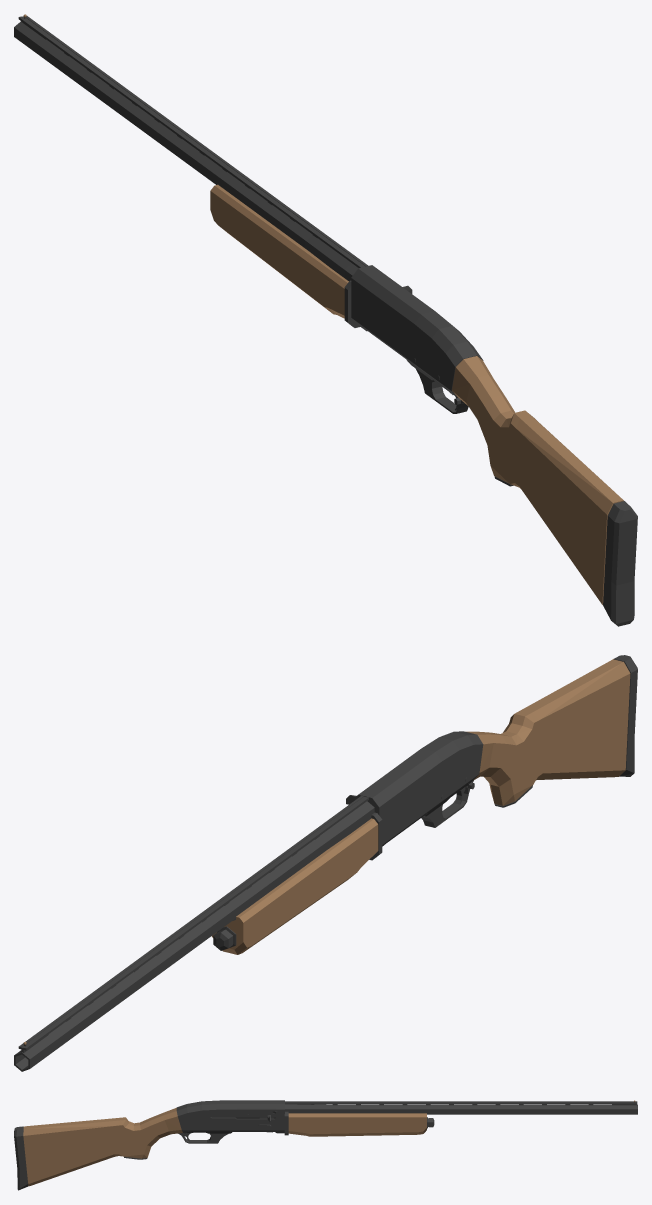
Rendered from shotgun_7.glb.
3 renders of one model, top to bottom at view 1: azimuth 30°, elevation 25°; view 2: azimuth 150°, elevation 25°; view 3: azimuth 270°, elevation 25°, orthographic. The views are drawn at different scales.
Parts seen in each view (by area): view 1: p36_accent, p21_paint, p0_paint, p14_accent, p38_paint, p1_paint; view 2: p36_accent, p0_paint, p21_paint, p14_accent, p1_paint, p38_paint, p31_paint; view 3: p36_accent, p0_paint, p14_accent, p21_paint, p1_paint, p38_paint, p24_paint, p31_paint.
Boxes of the visible parts, left/top/right/bottom form: p36_accent: left=452, top=356, right=623, bottom=604; p21_paint: left=351, top=265, right=483, bottom=397; p0_paint: left=14, top=21, right=358, bottom=280; p14_accent: left=210, top=184, right=348, bottom=318; p38_paint: left=603, top=501, right=637, bottom=626; p1_paint: left=18, top=16, right=368, bottom=267; p36_accent: left=466, top=659, right=630, bottom=805; p0_paint: left=14, top=801, right=374, bottom=1071; p21_paint: left=351, top=731, right=483, bottom=846; p14_accent: left=212, top=818, right=378, bottom=954; p1_paint: left=18, top=795, right=368, bottom=1050; p38_paint: left=613, top=655, right=637, bottom=776; p31_paint: left=421, top=780, right=473, bottom=827; p36_accent: left=23, top=1108, right=182, bottom=1186; p0_paint: left=285, top=1104, right=637, bottom=1114; p14_accent: left=288, top=1113, right=426, bottom=1136; p21_paint: left=176, top=1100, right=284, bottom=1133; p1_paint: left=285, top=1101, right=637, bottom=1104; p38_paint: left=14, top=1126, right=28, bottom=1190; p24_paint: left=235, top=1108, right=277, bottom=1118; p31_paint: left=178, top=1133, right=228, bottom=1143.
Bounding box in the file's own units: 0.0537 × 0.1772 × 1.13.
